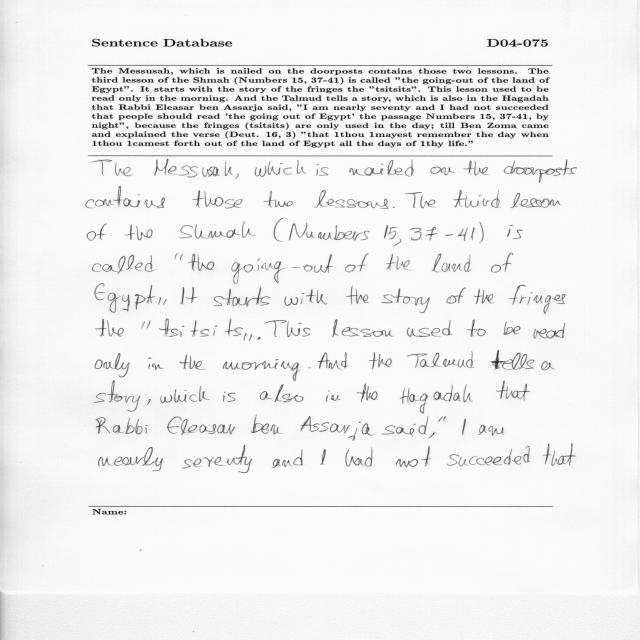word: (231, 254, 334, 284), (400, 384, 473, 414), (182, 445, 252, 473), (301, 416, 374, 441), (504, 159, 577, 183), (86, 186, 165, 208), (223, 359, 301, 381), (95, 284, 156, 312), (447, 446, 530, 466), (508, 285, 565, 314), (99, 447, 163, 471), (159, 319, 243, 337), (95, 380, 141, 412), (289, 223, 370, 241), (153, 160, 233, 178), (314, 190, 389, 209), (167, 416, 237, 435), (180, 222, 256, 239), (381, 289, 430, 314), (92, 255, 155, 274), (349, 159, 414, 177), (332, 319, 394, 337), (407, 352, 475, 368), (213, 287, 270, 306), (193, 191, 243, 209), (382, 416, 429, 435), (255, 160, 307, 177), (95, 353, 130, 378), (96, 418, 147, 435), (491, 350, 534, 370), (160, 386, 210, 403), (454, 190, 500, 208), (407, 320, 453, 337), (260, 385, 303, 403), (510, 193, 561, 208), (265, 320, 310, 337), (432, 254, 472, 273), (496, 381, 531, 402), (396, 446, 431, 467), (285, 289, 328, 306), (543, 444, 576, 466), (426, 227, 475, 241), (91, 160, 133, 176), (251, 415, 281, 435), (272, 449, 303, 468), (345, 447, 373, 467), (318, 352, 348, 370), (534, 323, 566, 339), (263, 191, 293, 207), (405, 192, 435, 208), (96, 319, 124, 336), (125, 225, 153, 241), (188, 254, 214, 271), (386, 254, 412, 271), (491, 253, 513, 273), (345, 254, 368, 273), (346, 286, 369, 305), (179, 355, 206, 370), (369, 352, 392, 369), (357, 384, 377, 402), (384, 225, 401, 246), (464, 161, 489, 175), (467, 319, 486, 337), (87, 224, 107, 241), (446, 288, 466, 304), (274, 218, 287, 242), (474, 289, 494, 304), (181, 287, 198, 304), (478, 425, 504, 436), (504, 321, 521, 335), (431, 167, 456, 176), (508, 225, 524, 239), (149, 357, 164, 370), (326, 391, 341, 402), (410, 228, 422, 241), (317, 164, 329, 176), (223, 392, 236, 402), (541, 361, 555, 370), (479, 222, 484, 243), (320, 449, 326, 465), (142, 320, 151, 328), (244, 333, 252, 341), (462, 419, 466, 435), (174, 253, 183, 260), (438, 416, 446, 422), (429, 432, 435, 438), (235, 173, 239, 179), (163, 299, 167, 305), (147, 399, 151, 405), (158, 298, 161, 305), (257, 337, 261, 340), (393, 207, 395, 208), (309, 367, 310, 368)
